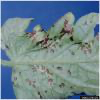Tomato leaf bacterial spot: (1, 12, 100, 97)
